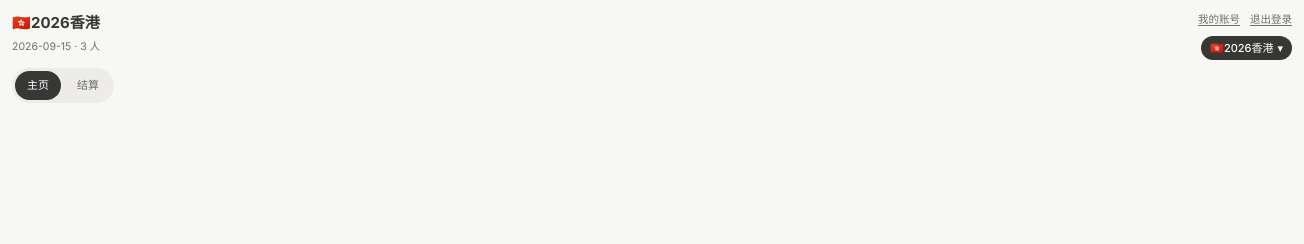
Test: TripHeaderNav 下拉面板 › 展开后找不到旧的标题行文字，"＋ 新建行程"仍然存在
What coordinates should you click on to do the following:
click the button "🇭🇰2026香港 ▾"
I would click on:
 (1246, 48)
Its box is [1201,36,1292,60].
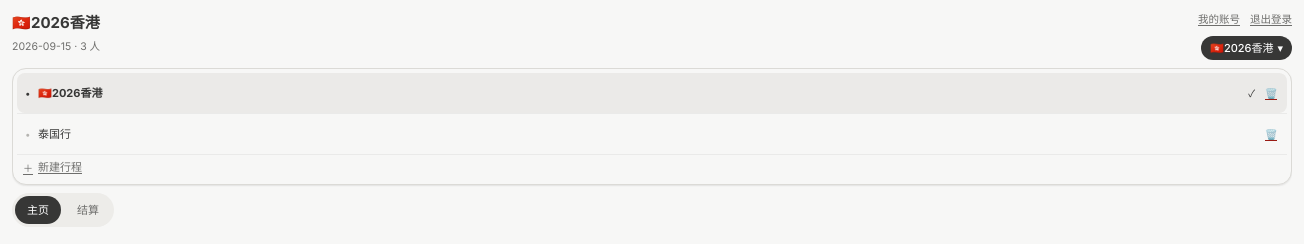
Now the link "＋ 新建行程" is shown, box [23,160,82,174]
